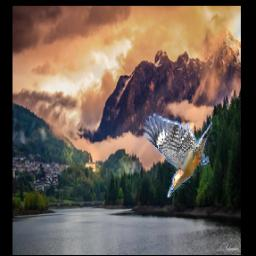Woodpecker: (143, 114, 212, 199)
